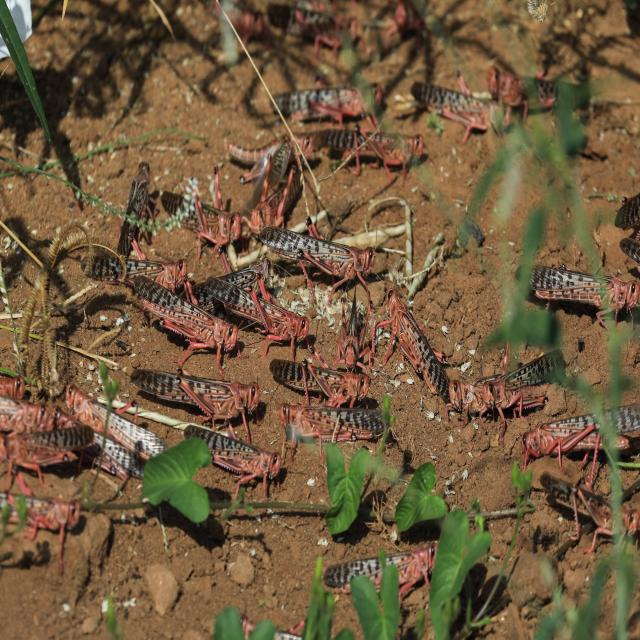ZhaMeng: (368, 272, 451, 404), (318, 521, 446, 599), (62, 382, 168, 471), (182, 418, 285, 505), (135, 274, 239, 359), (257, 217, 377, 290), (514, 250, 639, 319), (447, 348, 567, 419), (206, 275, 312, 351), (404, 73, 516, 142), (540, 469, 640, 545), (159, 169, 245, 257), (520, 401, 636, 465), (131, 365, 261, 422), (271, 69, 391, 125), (487, 58, 594, 118), (275, 403, 400, 454), (265, 352, 382, 405), (296, 127, 427, 173), (4, 420, 96, 475), (2, 484, 88, 538), (83, 255, 194, 292), (248, 172, 310, 232), (116, 159, 151, 261), (338, 285, 371, 371)
